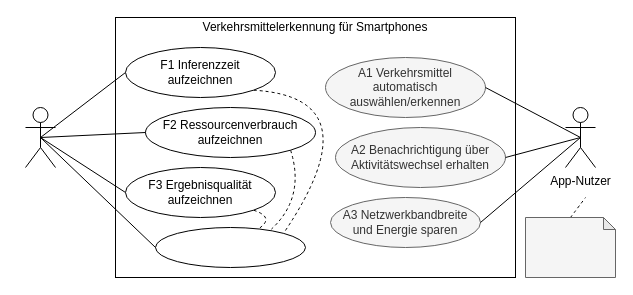
Some shapes in this 633 by 295 pixel diagram are drawn without their labels. The shapes that lost their labels are listed below. From the top down, each one's centre as x and y in pixels, then its label:
(40,137): Forscher
(230,247): F4 Bestes Modell anh. Tradeoff finden
(570,247): Use-Cases bei App-Integration
